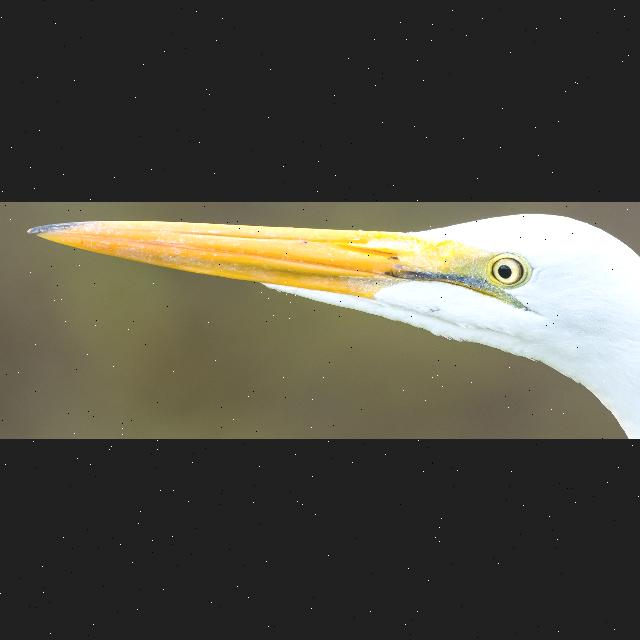egret: (24, 207, 640, 438)
